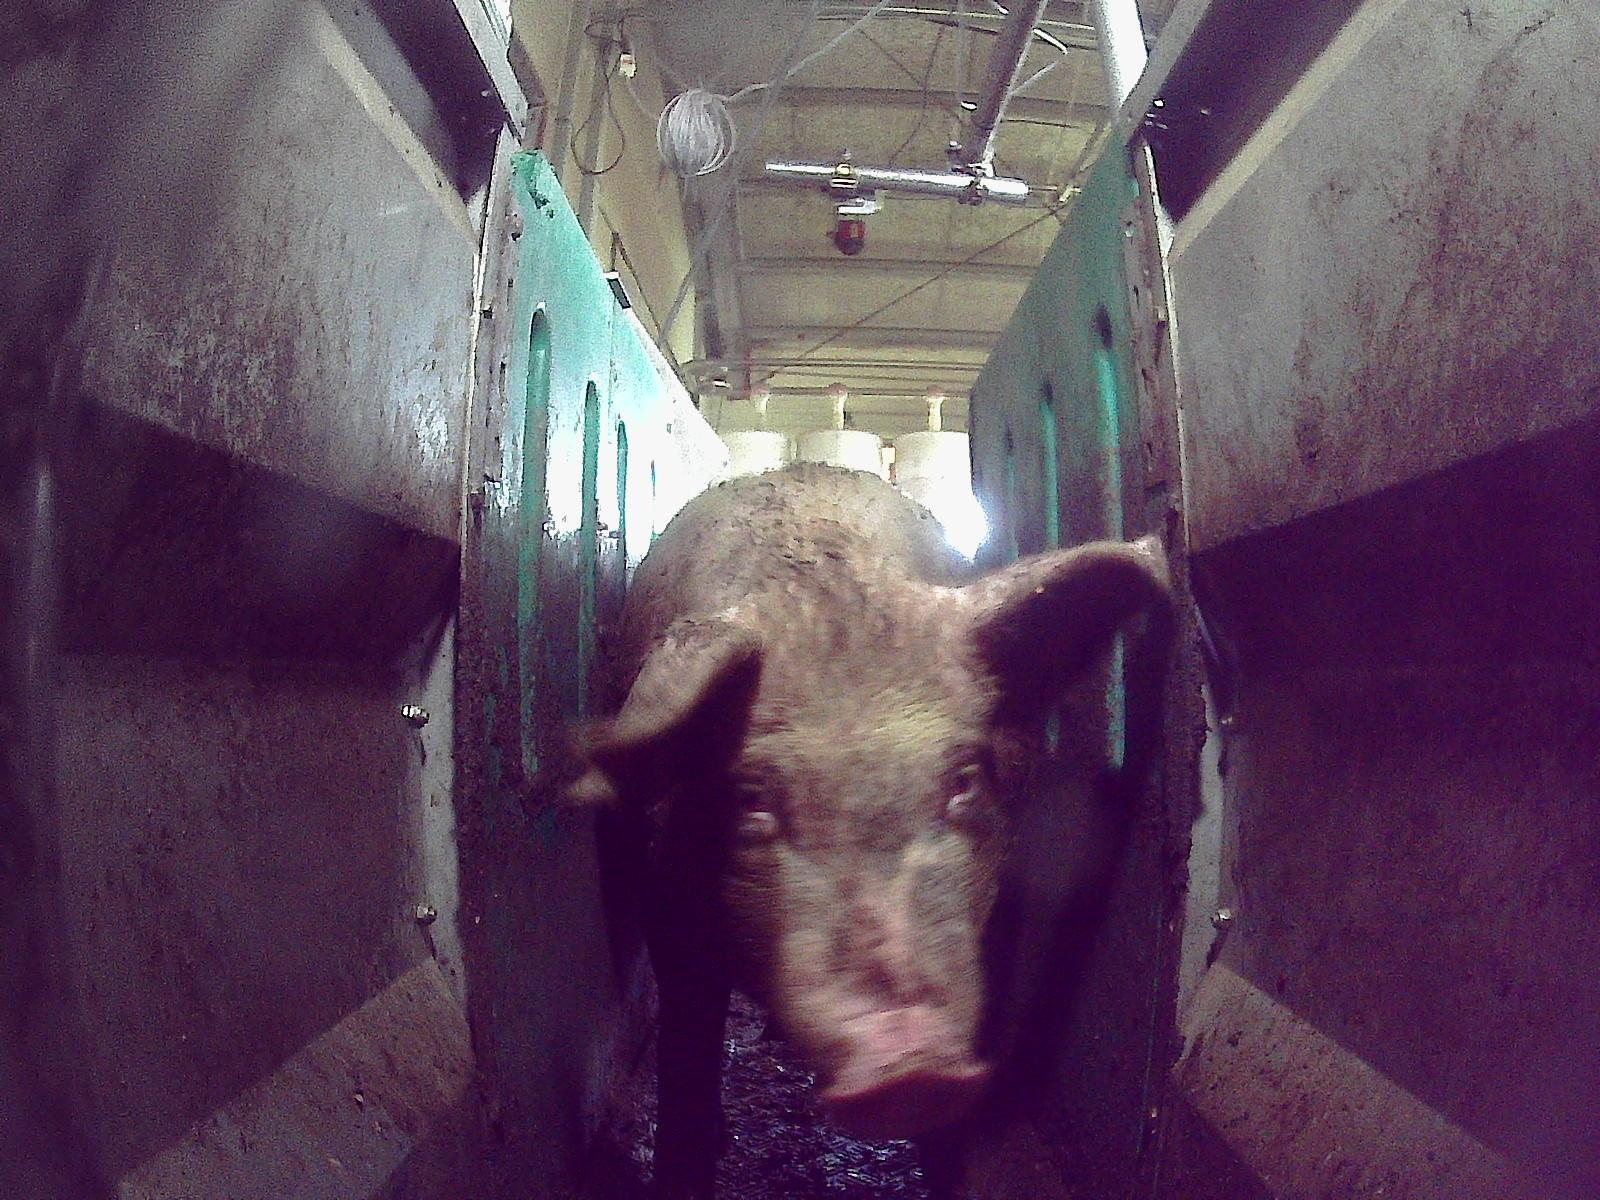Face: (688, 576, 1028, 1143)
